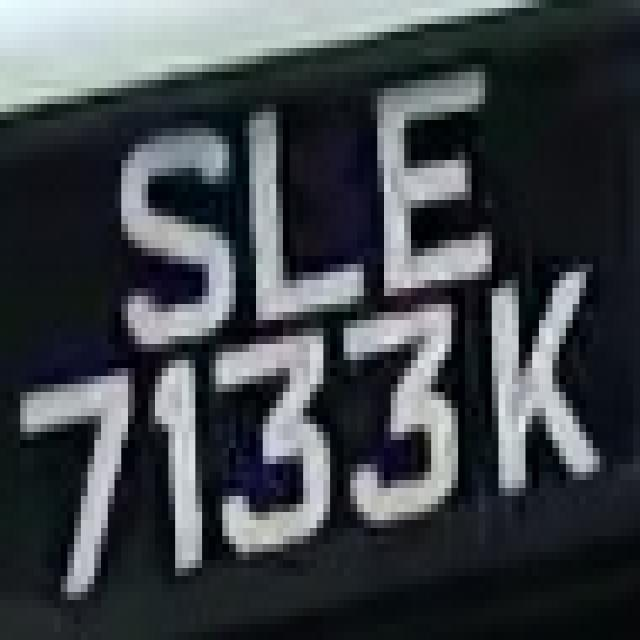1: (148, 336, 216, 600)
3: (216, 320, 357, 568), (337, 296, 465, 528)
7: (14, 368, 148, 584)
E: (364, 40, 505, 288)
K: (465, 280, 620, 504)
L: (242, 112, 350, 344)
S: (101, 104, 236, 352)
